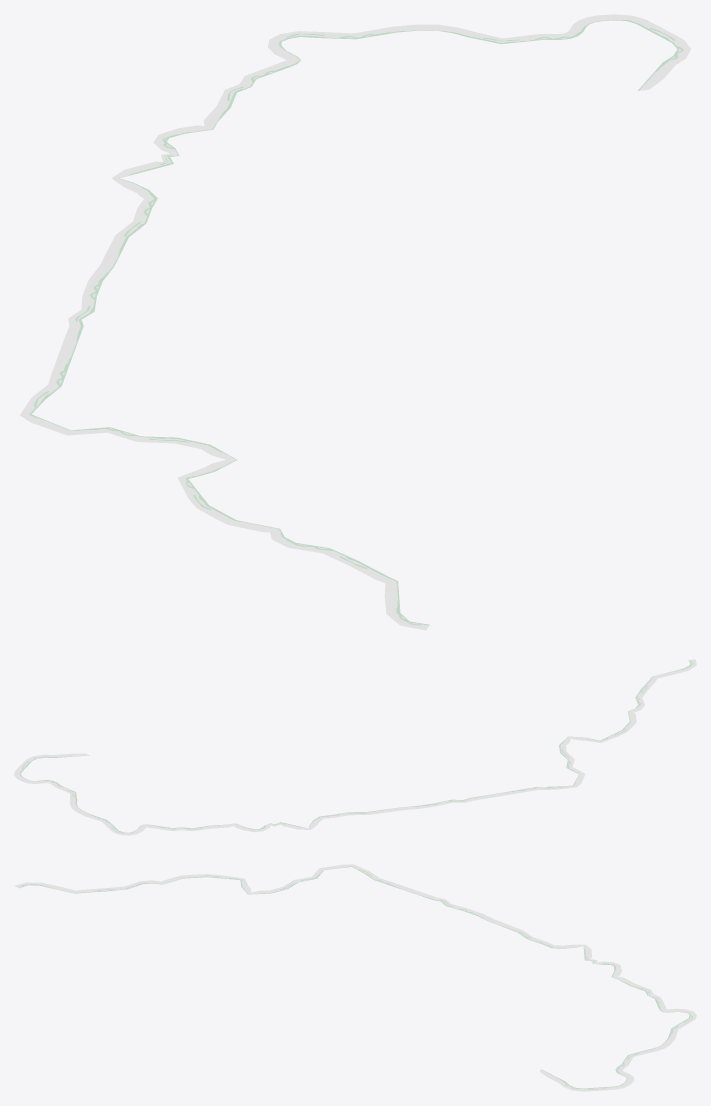
File: Mesh_Home_Terrain_Sand_02.fbx
The picture shows the model from 3 angles, top to bottom: view 1: azimuth 30°, elevation 25°; view 2: azimuth 150°, elevation 25°; view 3: azimuth 270°, elevation 25°; orthographic projection. The views are drawn at different scales.
Visible parts, largest first — view 1: Mesh_Home_Terrain_Sand_02; view 2: Mesh_Home_Terrain_Sand_02; view 3: Mesh_Home_Terrain_Sand_02.
Part boxes in pixels (left/top/right/bottom): Mesh_Home_Terrain_Sand_02: left=20, top=14, right=690, bottom=630; Mesh_Home_Terrain_Sand_02: left=14, top=659, right=696, bottom=835; Mesh_Home_Terrain_Sand_02: left=14, top=864, right=696, bottom=1091.
Bounding box in the file's own units: 2846 × 3.05e-05 × 3615.
